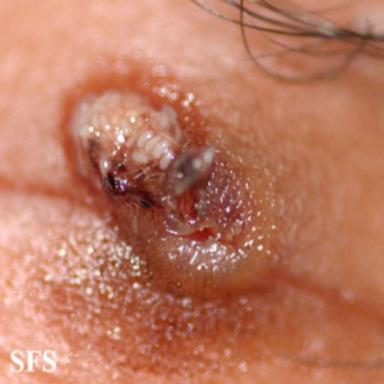Tungiasis: (69, 62, 284, 294)
